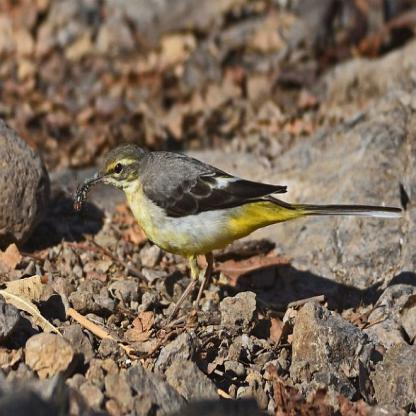Burung: (78, 144, 398, 314)
